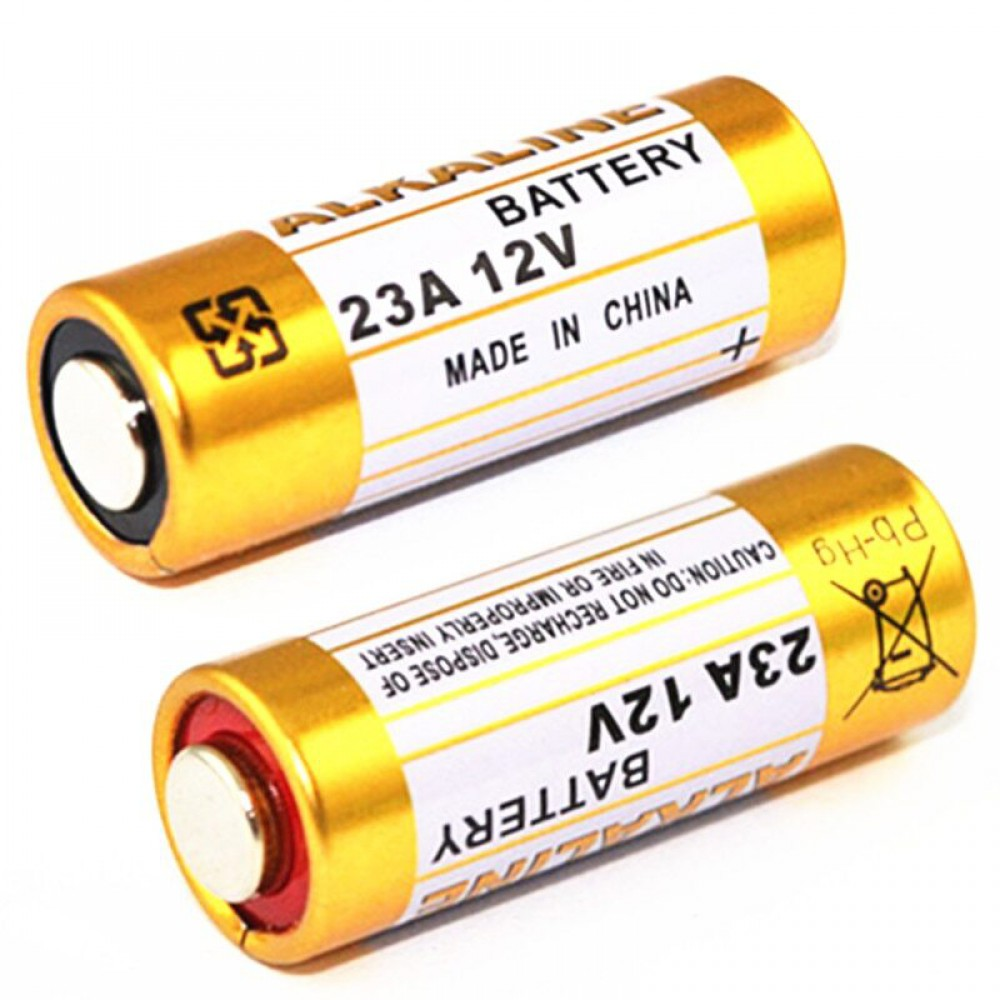Battery: (145, 439, 981, 974), (26, 71, 852, 584)
